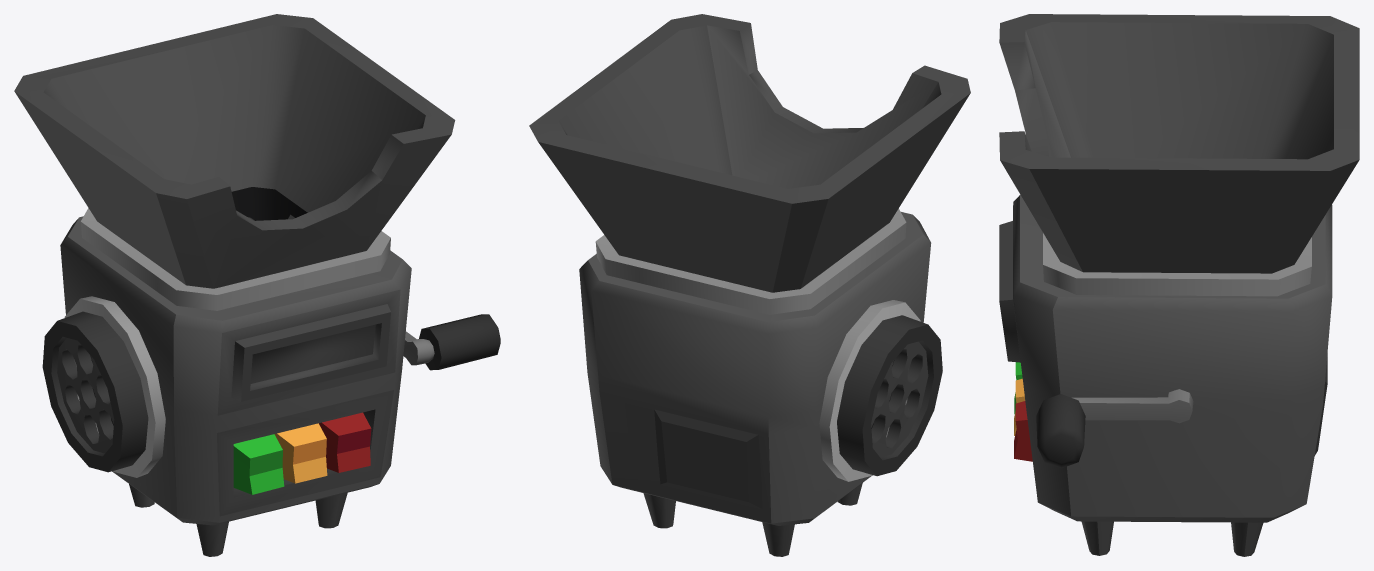
File: Gibber.fbx
3 renders of one model, left to right at view 1: azimuth 30°, elevation 25°; view 2: azimuth 150°, elevation 25°; view 3: azimuth 270°, elevation 25°, orthographic. The views are drawn at different scales.
Parts seen in each view (by area): view 1: GibberHopper, Gibber, GibberHoles, GibberButtons, GibberCrank; view 2: GibberHopper, Gibber, GibberHoles, GibberPanel; view 3: GibberHopper, Gibber, GibberCrank, GibberButtons.
Boxes of the visible parts, bbox=[...] form: GibberHopper: bbox=[14, 14, 455, 310]; Gibber: bbox=[60, 216, 411, 556]; GibberHoles: bbox=[42, 296, 165, 477]; GibberButtons: bbox=[233, 412, 371, 494]; GibberCrank: bbox=[403, 314, 500, 370]; GibberHopper: bbox=[529, 14, 970, 314]; Gibber: bbox=[579, 212, 931, 556]; GibberHoles: bbox=[819, 300, 942, 481]; GibberPanel: bbox=[654, 409, 762, 509]; GibberHopper: bbox=[999, 14, 1359, 296]; Gibber: bbox=[999, 194, 1332, 556]; GibberCrank: bbox=[1036, 389, 1193, 468]; GibberButtons: bbox=[1014, 362, 1032, 461].
Bounding box in the file's own units: 0.9066 × 0.9845 × 0.7388.
